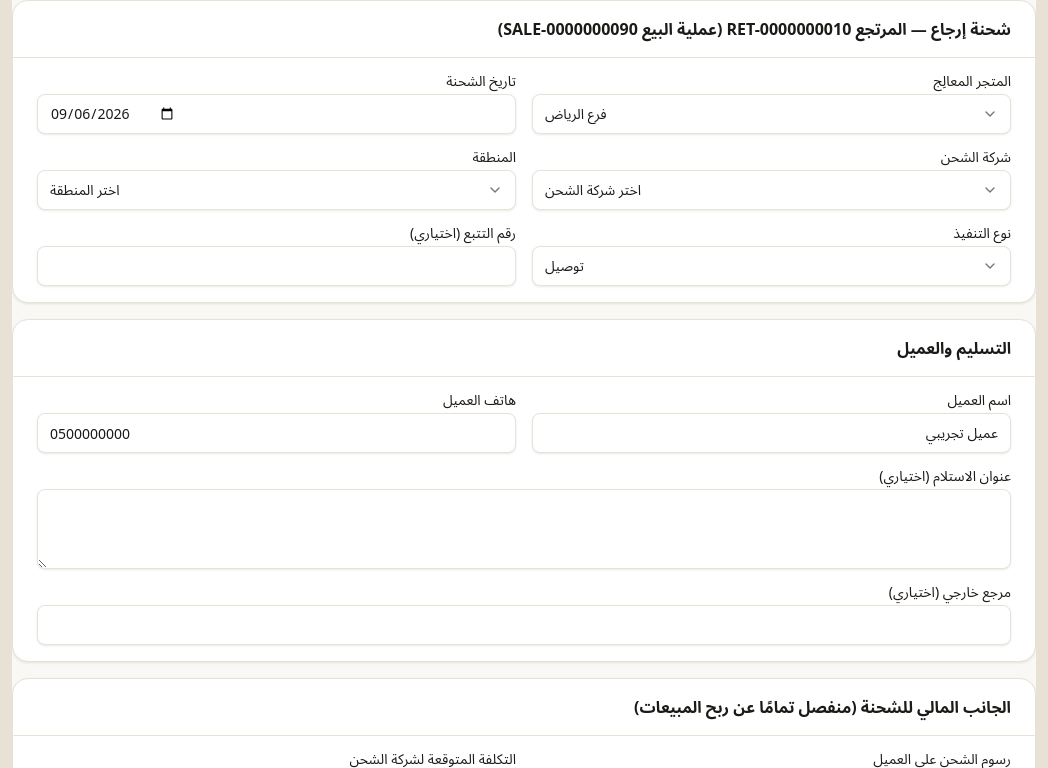
Test: ShipmentEntryForm — Hotfix 5.1.1 items 1/2/3 (return shipping fee) › item 2: auto-fills the suggested fee for the first zone picked
Press the mouse on the dropdown labelled "اختر المنطقة": (85, 190) [37,170,516,210]
Click the dropdown labelled "اختر المنطقة": (85, 190) [37,170,516,210]
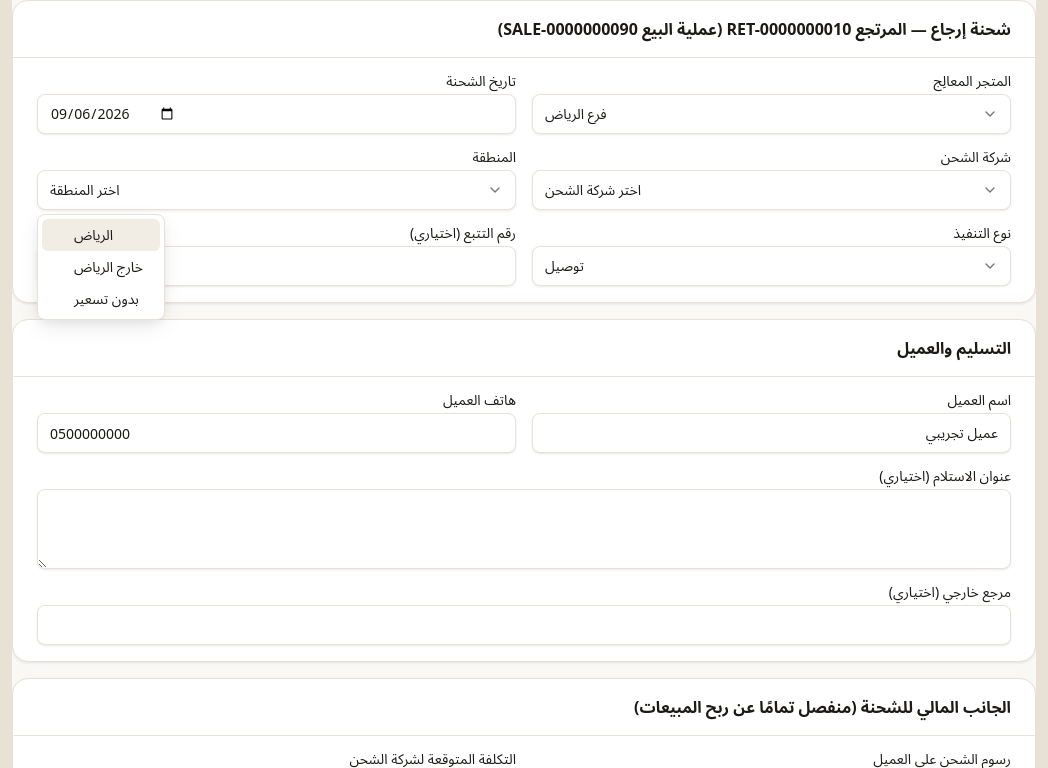
Click the option "الرياض": (101, 235) [42,219,160,251]
(page scrolled)
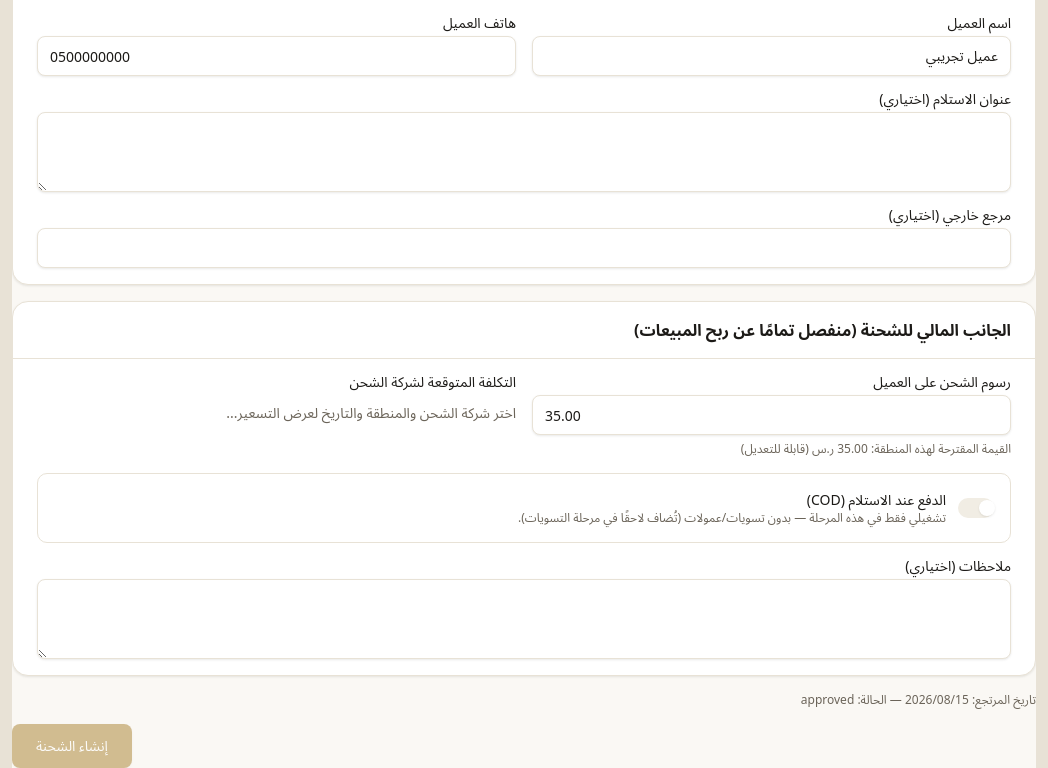
Check: the field showing "35.00" below "رسوم الشحن على العميل" is shown, box [532,395,1011,435]
